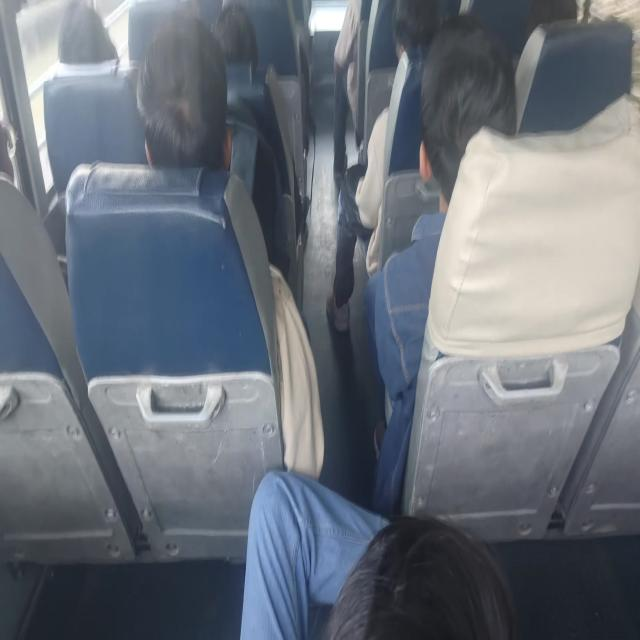person: (135, 11, 324, 478), (362, 11, 516, 514), (239, 468, 515, 638), (326, 0, 441, 332), (135, 12, 232, 170), (332, 0, 362, 191), (56, 0, 118, 65), (211, 4, 258, 76)
